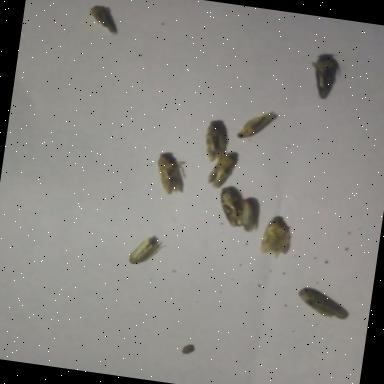pbw: (295, 286, 352, 320), (306, 52, 344, 102), (154, 152, 189, 196), (260, 214, 294, 258), (127, 232, 166, 268), (238, 107, 278, 142), (202, 118, 232, 163), (208, 149, 240, 191), (216, 186, 248, 228), (86, 4, 121, 36), (237, 197, 262, 233)
